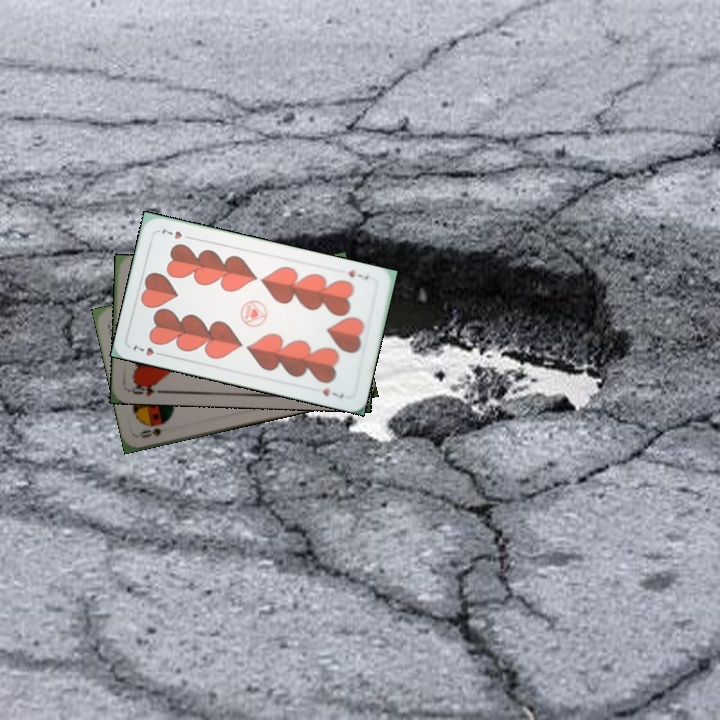H7: (129, 341, 168, 359), (344, 265, 371, 282)
HO: (125, 379, 166, 398)
SO: (136, 424, 164, 440)
